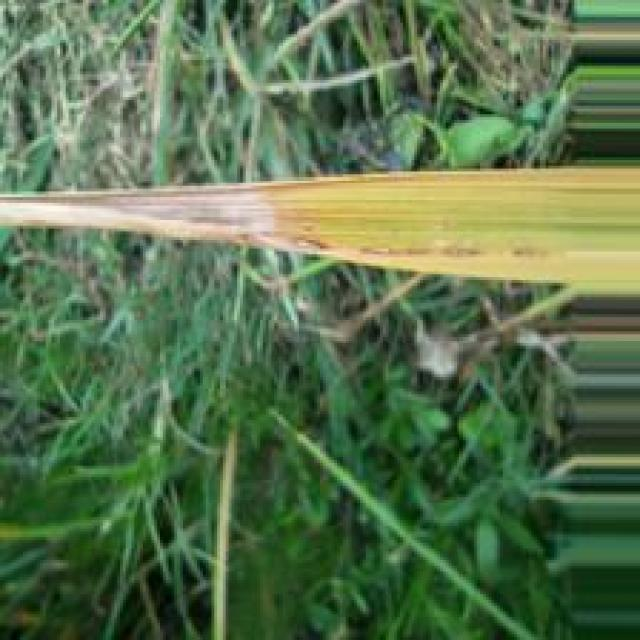Narrow_Brown_Leaf_Spot: (0, 170, 634, 285)
